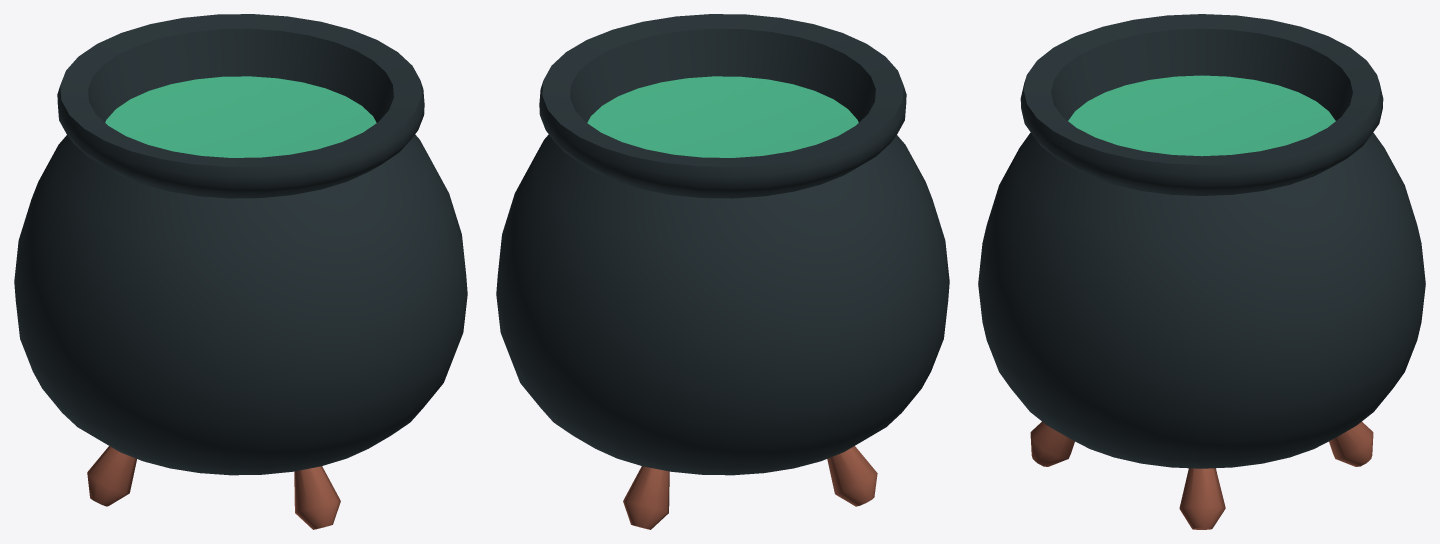
Rendered from simple_cauldron.gltf.glb.
3 renders of one model, left to right at view 1: azimuth 30°, elevation 25°; view 2: azimuth 150°, elevation 25°; view 3: azimuth 270°, elevation 25°, orthographic.
Parts seen in each view (by area): view 1: cauldron; view 2: cauldron; view 3: cauldron.
Part boxes in pixels (x1,y1,x2,y2): cauldron: [14, 14, 467, 529]; cauldron: [496, 14, 949, 529]; cauldron: [978, 14, 1425, 529].
Bounding box in the file's own units: 1.2 × 1.11 × 1.2.
